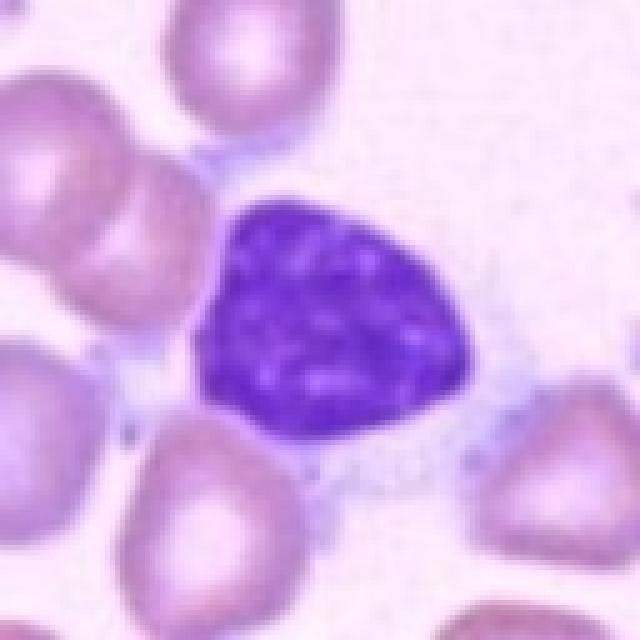lympho: (83, 119, 555, 508)
